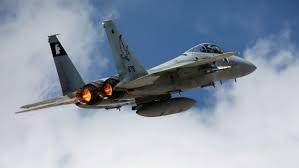fighter: (14, 16, 260, 122)
